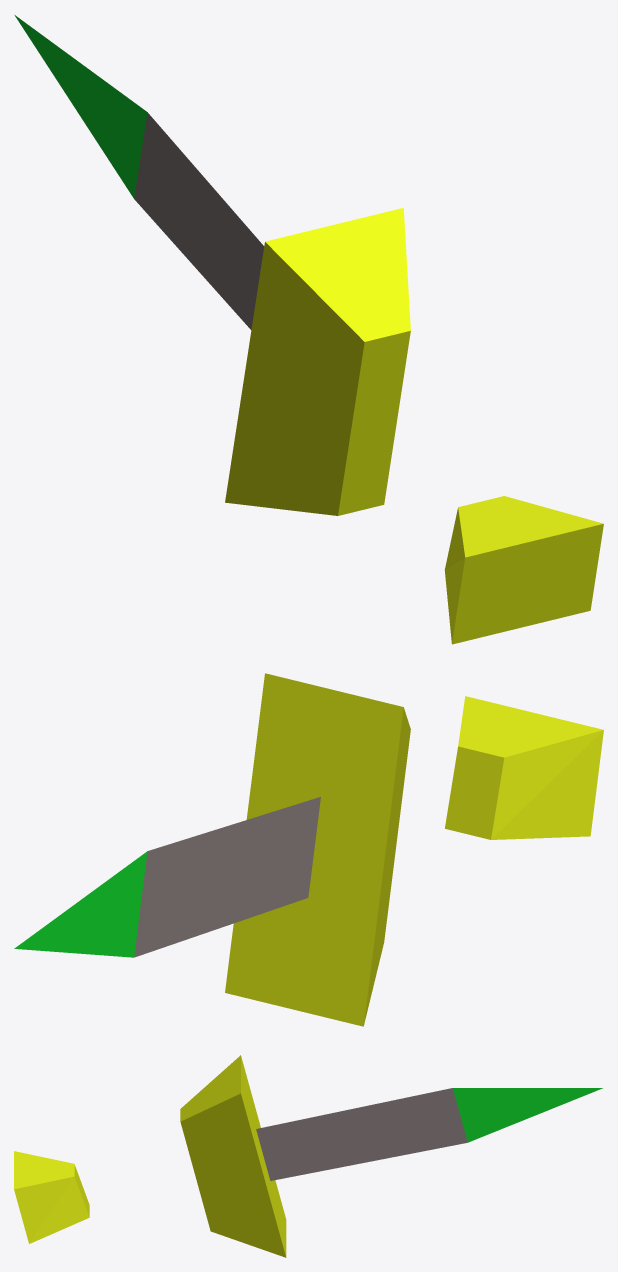
Rendered from itm_model0_steel_dagger_p.obj.
3 views of the same model, one above another, from view 1: azimuth 30°, elevation 25°; view 2: azimuth 150°, elevation 25°; view 3: azimuth 270°, elevation 25° (orthographic). The views are drawn at different scales.
Bounding box in the file's own units: 0.0469 × 0.0938 × 0.3047.
